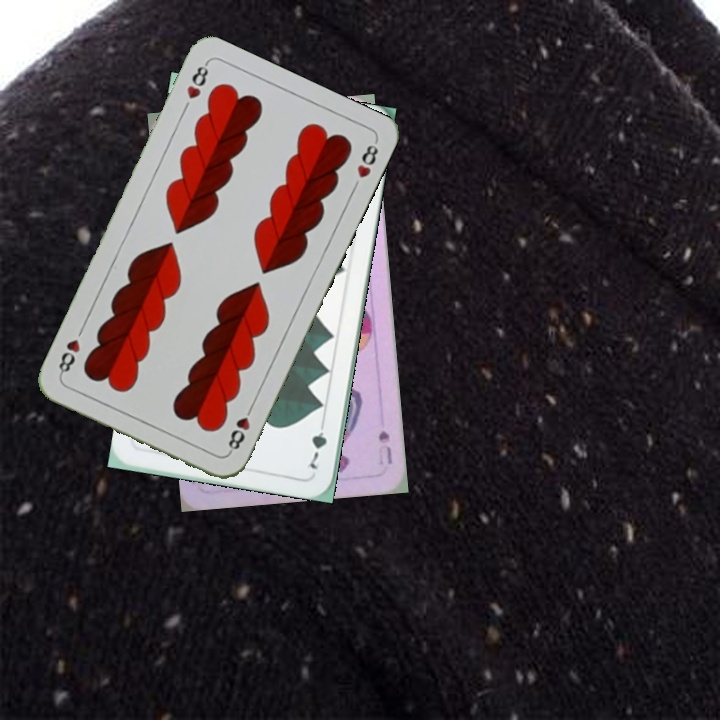G7: (305, 415, 330, 472)
H8: (224, 400, 256, 456), (182, 59, 211, 102)
SU: (374, 427, 395, 467)
